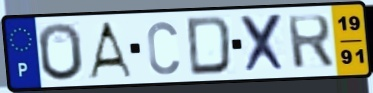A: (85, 19, 135, 79)
C: (145, 19, 182, 77)
D: (185, 14, 234, 77)
O: (36, 21, 86, 82)
R: (285, 13, 337, 71)
X: (239, 12, 289, 76)
